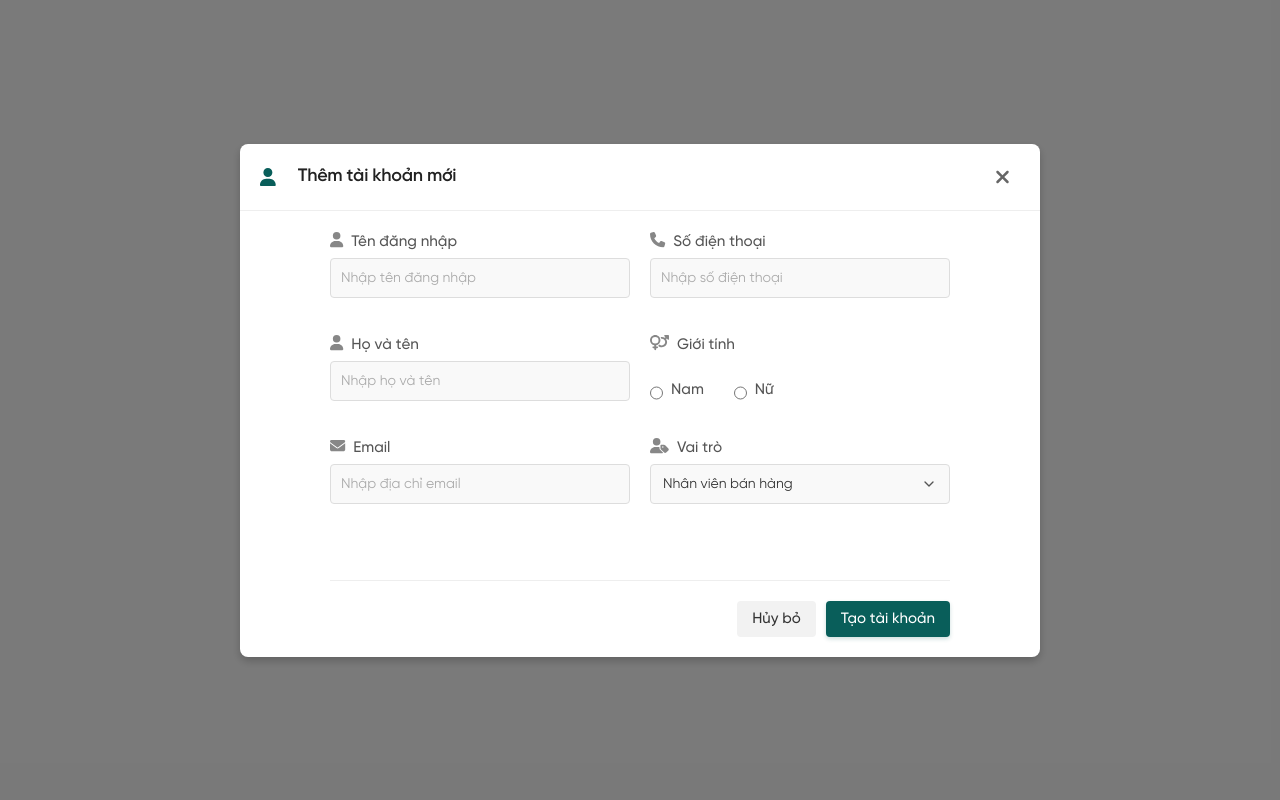
it: AccountForm › validates required fields
The image size is (1280, 800).
Expected: the heading "Thêm tài khoản mới" is shown, left=260, top=163, right=456, bottom=190
Click the button "Tạo tài khoản" at point(888, 618), box left=826, top=600, right=950, bottom=636
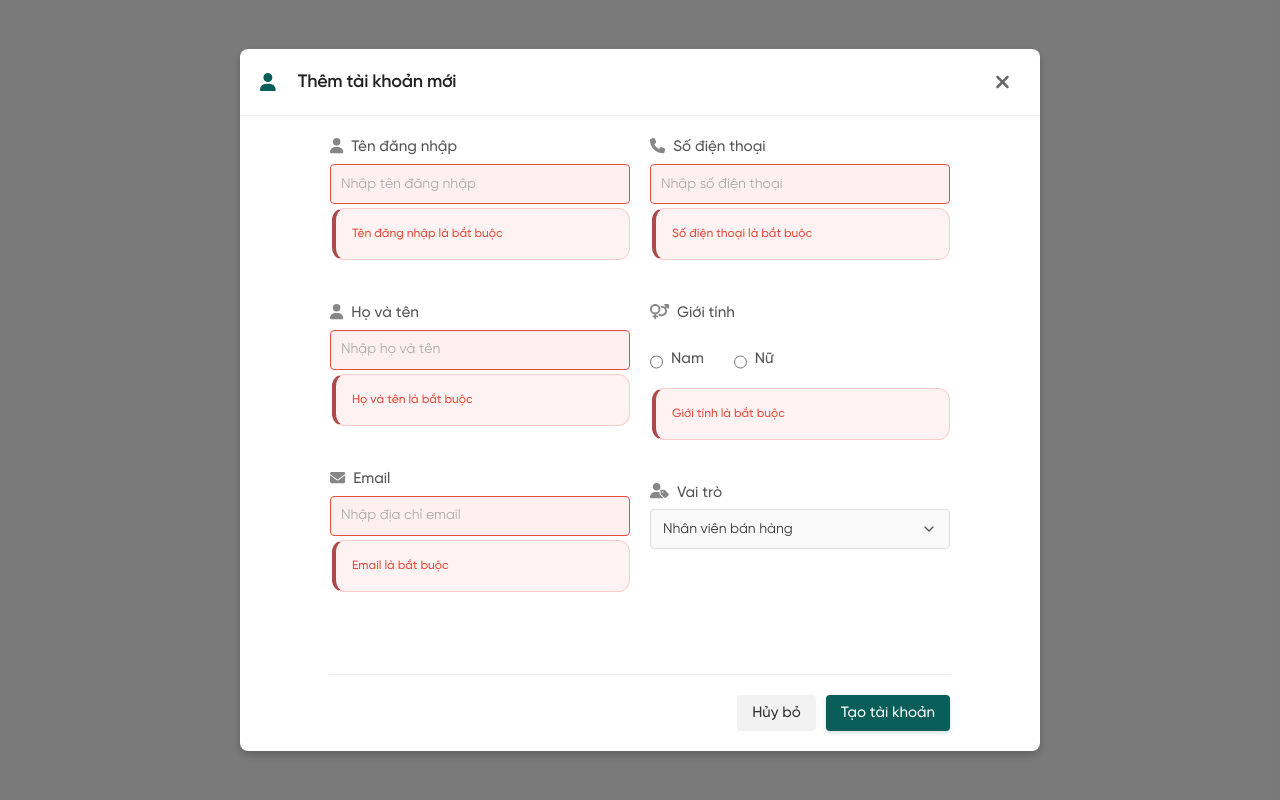
Result: the text "Tên đăng nhập là bắt buộc" is shown at left=332, top=208, right=630, bottom=260
Result: the text "Họ và tên là bắt buộc" is shown at left=332, top=374, right=630, bottom=426
Result: the text "Email là bắt buộc" is shown at left=332, top=540, right=630, bottom=592
